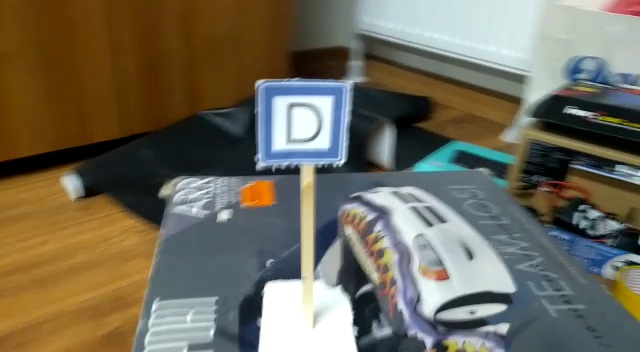durak: (258, 96, 355, 167)
